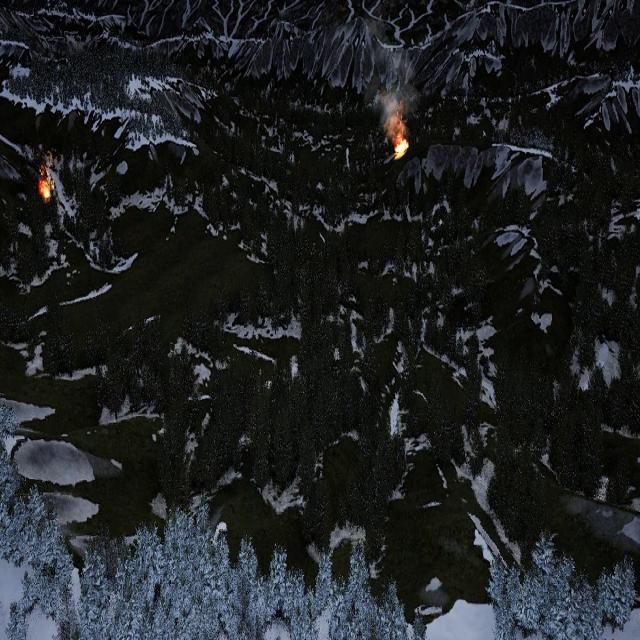fire: (393, 138, 408, 158), (40, 180, 51, 199)
smoke: (369, 50, 421, 136)
